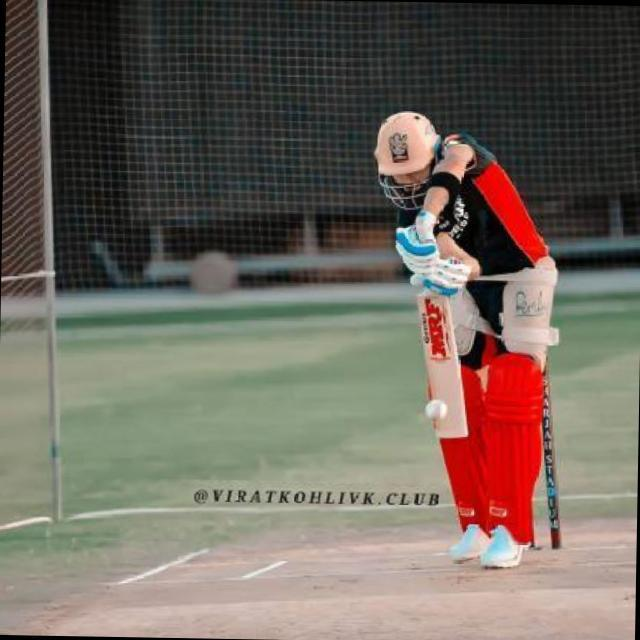-: (416, 386, 457, 431)
